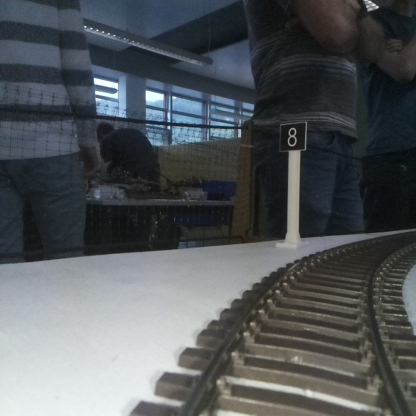black-info-8: (280, 122, 305, 246)
